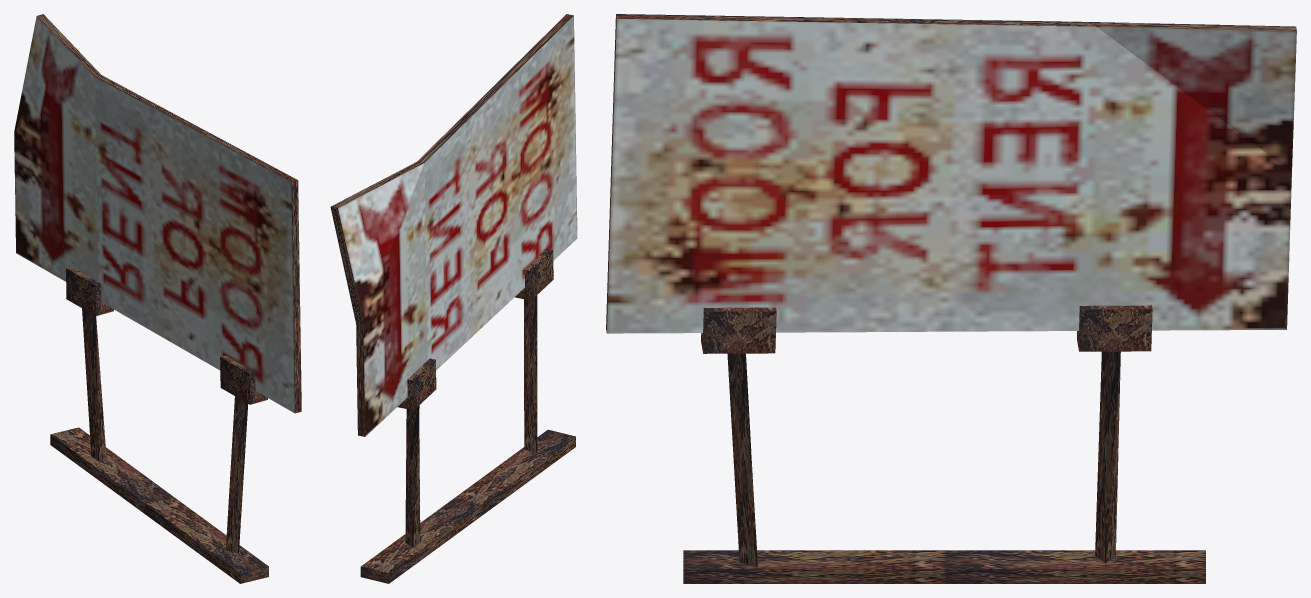
The model's file is apt_small_slum.fbx.
3 renders of one model, left to right at view 1: azimuth 30°, elevation 25°; view 2: azimuth 150°, elevation 25°; view 3: azimuth 270°, elevation 25°, orthographic. The views are drawn at different scales.
Parts seen in each view (by area): view 1: mesh_0; view 2: mesh_0; view 3: mesh_0.
Part boxes in pixels (left/top/right/bottom): mesh_0: left=14, top=14, right=301, bottom=583; mesh_0: left=330, top=14, right=577, bottom=583; mesh_0: left=606, top=14, right=1296, bottom=583.
Size of the model in its own units: 9.2 by 90.29 by 99.42.
1 material, 1 textured.
